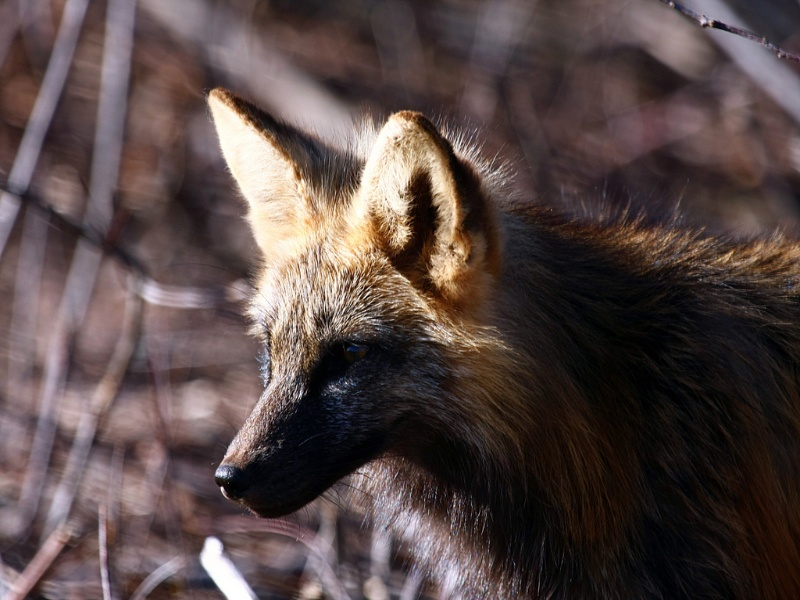fox: (182, 76, 800, 595)
